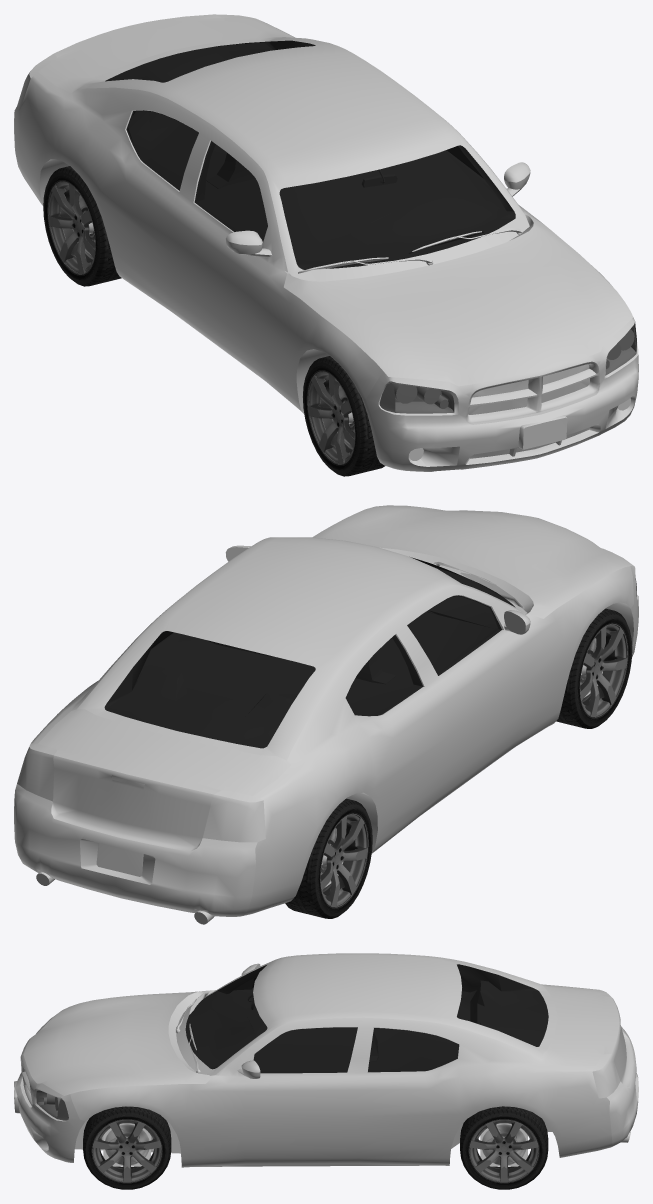
The model's file is Car#15.FBX.
3 renders of one model, top to bottom at view 1: azimuth 30°, elevation 25°; view 2: azimuth 150°, elevation 25°; view 3: azimuth 270°, elevation 25°, orthographic. The views are drawn at different scales.
Visible parts, largest first — view 1: Car_7_LOD0, Wheels_FR_LOD0, Wheels_RR_LOD0; view 2: Car_7_LOD0, Wheels_RR_LOD0, Wheels_FR_LOD0; view 3: Car_7_LOD0, Wheels_FL_LOD0, Wheels_RL_LOD0.
Boxes of the visible parts, x1=… form: Car_7_LOD0: x1=14, y1=14, x2=638, y2=471; Wheels_FR_LOD0: x1=303, y1=356, x2=384, y2=476; Wheels_RR_LOD0: x1=43, y1=166, x2=121, y2=286; Car_7_LOD0: x1=14, y1=505, x2=638, y2=924; Wheels_RR_LOD0: x1=285, y1=798, x2=372, y2=918; Wheels_FR_LOD0: x1=556, y1=608, x2=632, y2=728; Car_7_LOD0: x1=14, y1=953, x2=638, y2=1167; Wheels_FL_LOD0: x1=83, y1=1106, x2=171, y2=1189; Wheels_RL_LOD0: x1=460, y1=1106, x2=548, y2=1189.
Size of what is drawn, in the model's own units: 2.05 by 1.46 by 5.07.
